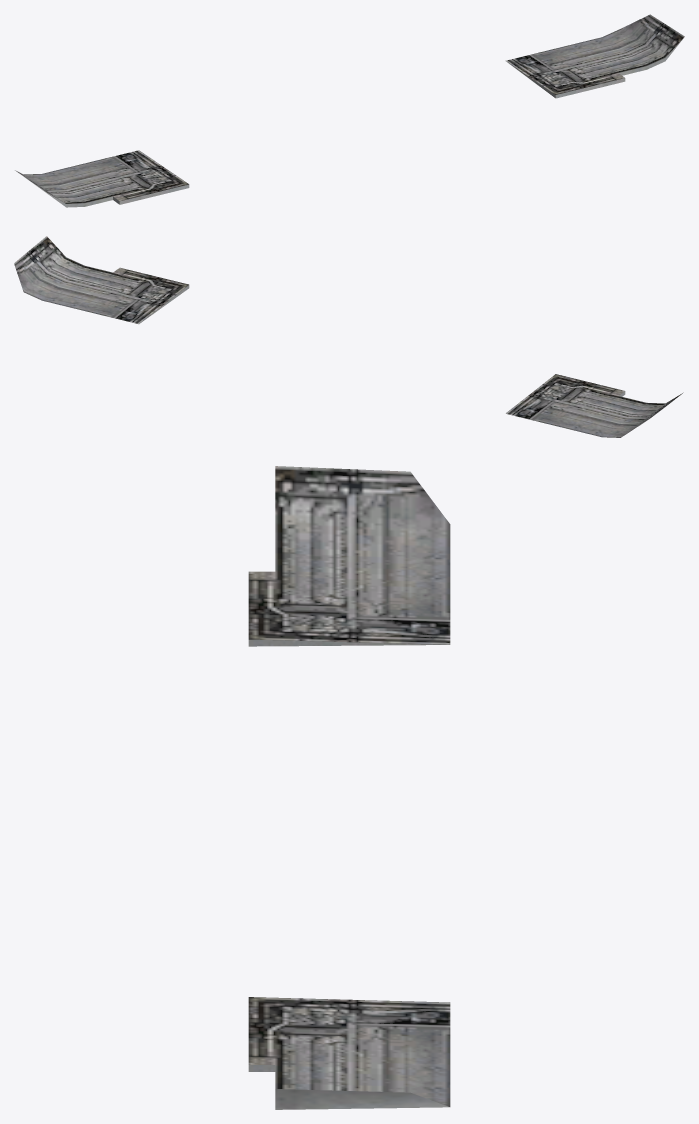
Rendered from lambda_geardoor_b_l1.fbx.
3 renders of one model, top to bottom at view 1: azimuth 30°, elevation 25°; view 2: azimuth 150°, elevation 25°; view 3: azimuth 270°, elevation 25°, orthographic. The views are drawn at different scales.
Visible parts, largest first — view 1: mesh_node; view 2: mesh_node; view 3: mesh_node.
Boxes of the visible parts, <box> form: mesh_node: <box>15,14,684,207</box>; mesh_node: <box>14,236,683,437</box>; mesh_node: <box>248,466,450,1109</box>.
Size of the model in its own units: 13.68 by 0.4898 by 1.88.
